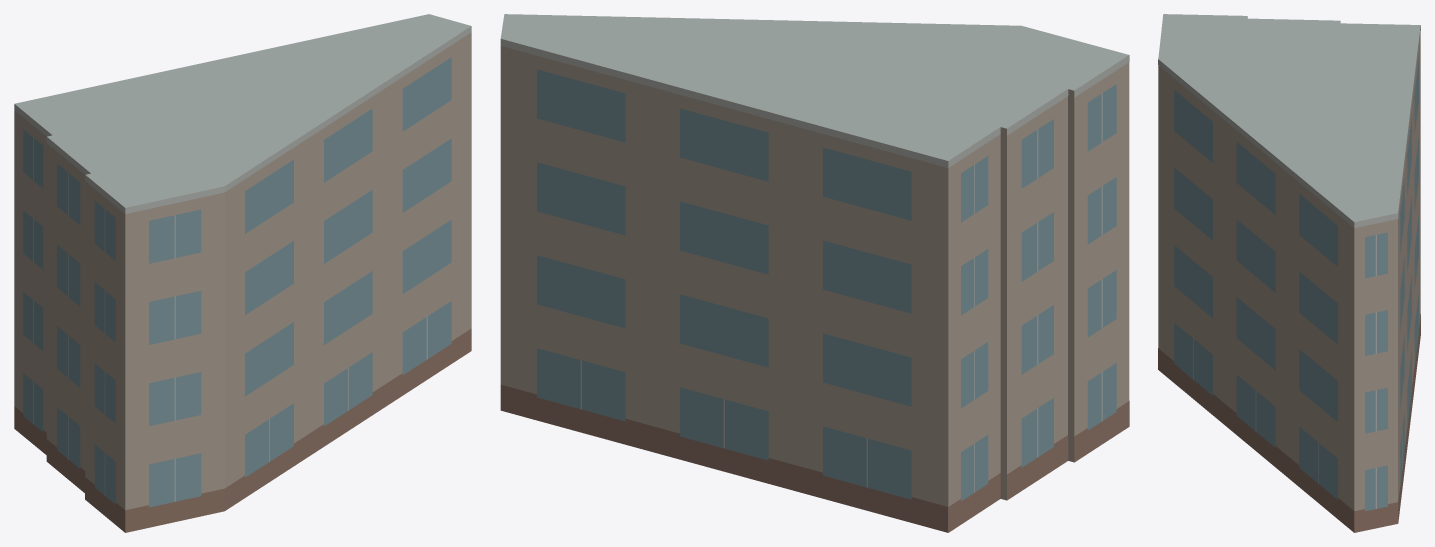
The model's file is survey-upis-32922767.glb.
The picture shows the model from 3 angles, left to right: view 1: azimuth 30°, elevation 25°; view 2: azimuth 150°, elevation 25°; view 3: azimuth 270°, elevation 25°; orthographic projection. The views are drawn at different scales.
Visible parts, largest first — view 1: survey-upis-32922767.tmp; view 2: survey-upis-32922767.tmp; view 3: survey-upis-32922767.tmp.
Part boxes in pixels (x1,y1,x2,y2): survey-upis-32922767.tmp: [14, 14, 471, 532]; survey-upis-32922767.tmp: [500, 14, 1129, 532]; survey-upis-32922767.tmp: [1158, 14, 1420, 532].
Bounding box in the file's own units: 18.48 × 12.85 × 9.85.
